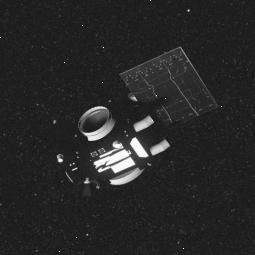proba_3_csc: (42, 56, 207, 218)
